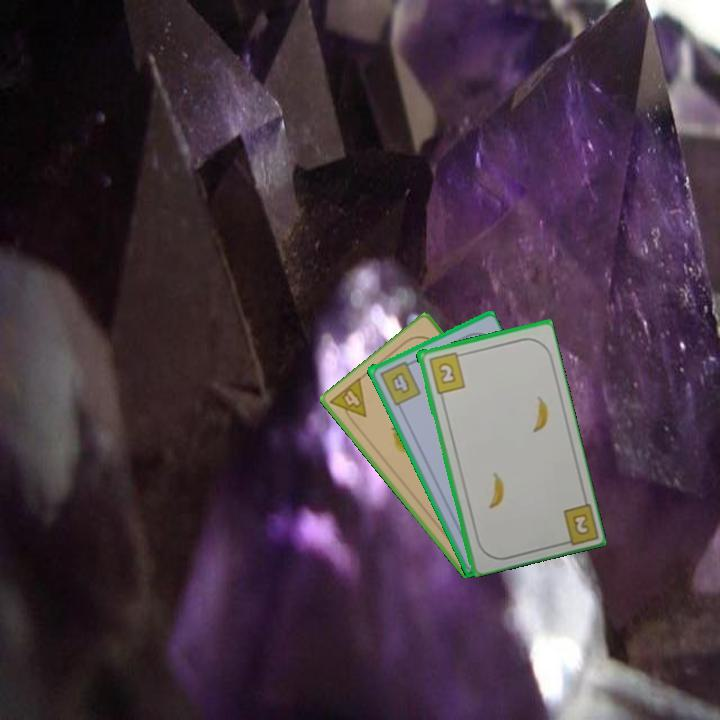2b: (425, 349, 468, 396), (569, 509, 592, 538)
4b: (376, 357, 423, 408)
4p: (326, 374, 369, 430)
